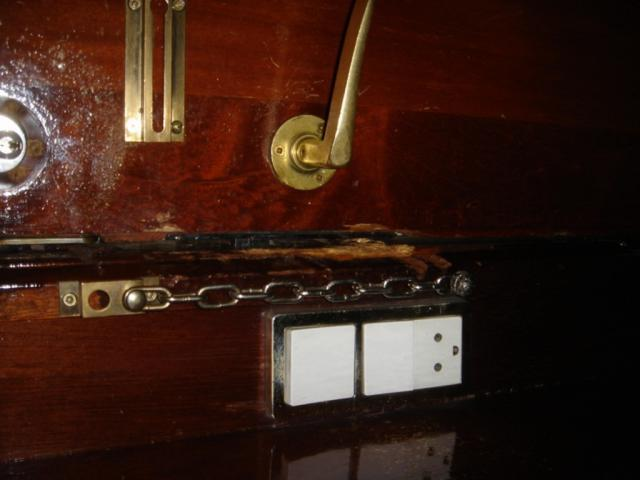Door-handle: (268, 0, 378, 190)
